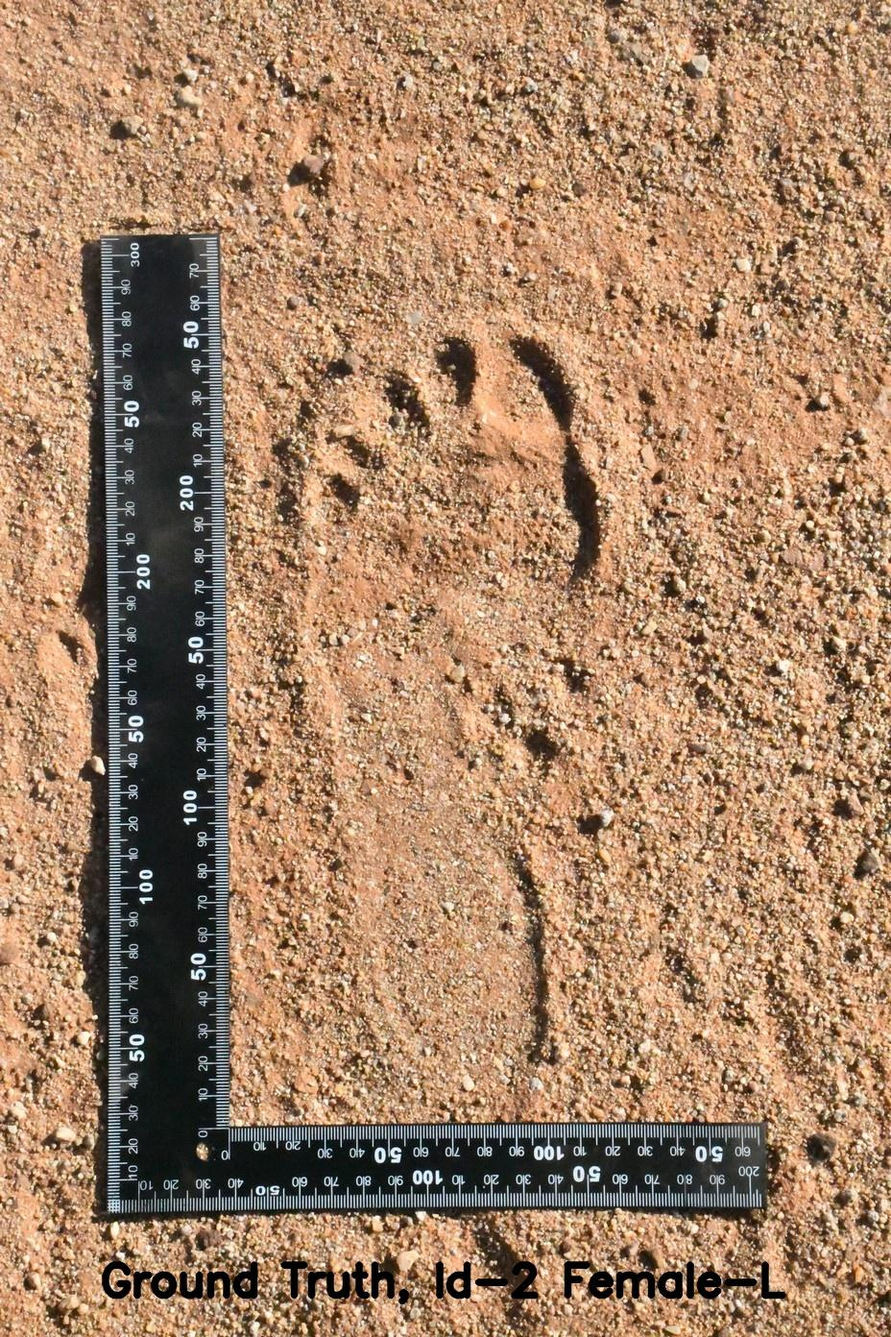human_foot_print: (256, 279, 666, 1111)
